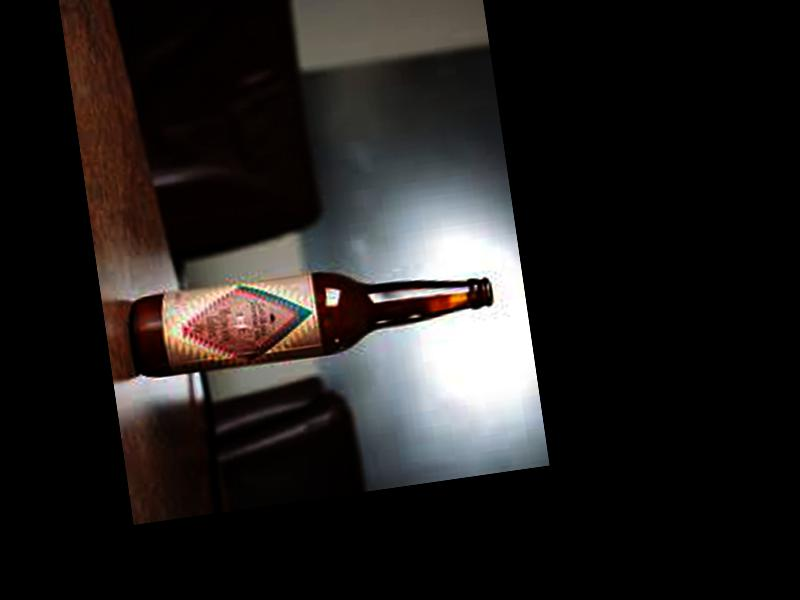Beer: (127, 250, 494, 380)
